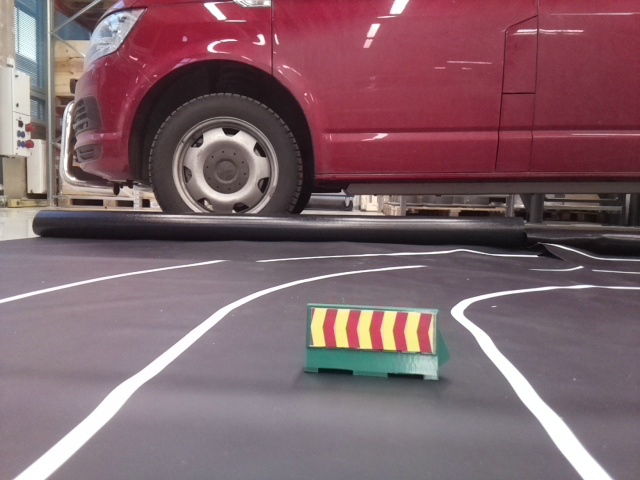ClosedRoadStand: (305, 303, 436, 376)
